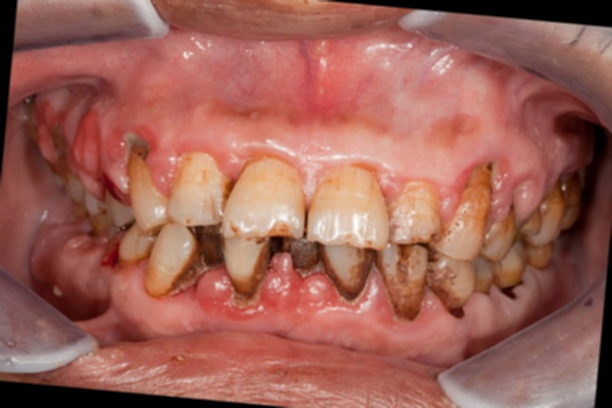Gingivitis: (194, 90, 359, 133), (193, 264, 258, 323), (259, 249, 300, 317), (354, 271, 399, 328)
